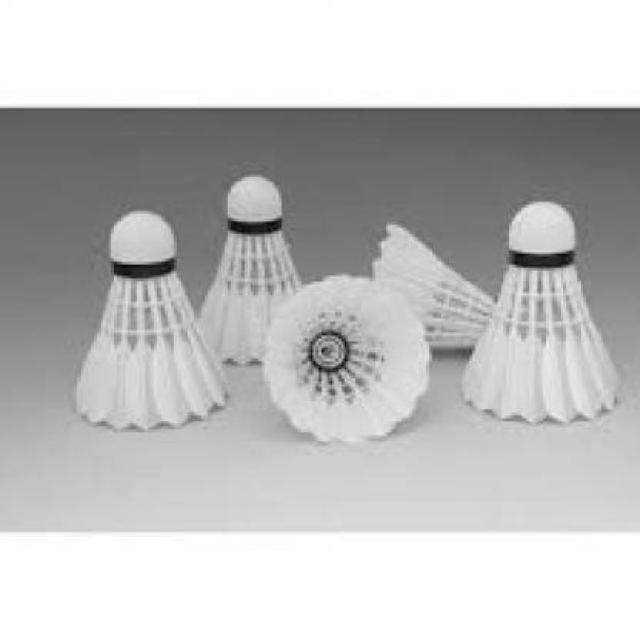Shuttlecock: (260, 271, 435, 451)
